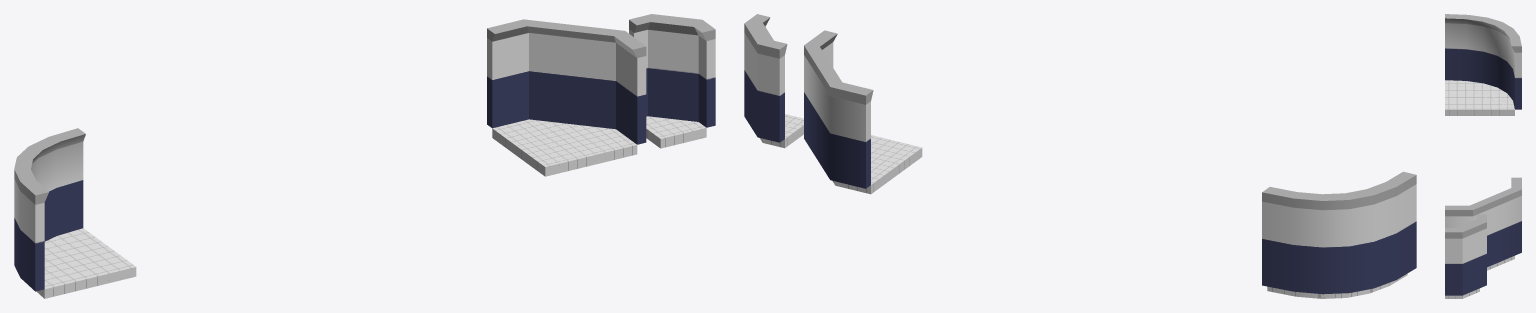
The model's file is ModularCorners.fbx.
3 views of the same model, side by side, from view 1: azimuth 30°, elevation 25°; view 2: azimuth 150°, elevation 25°; view 3: azimuth 270°, elevation 25° (orthographic). The views are drawn at different scales.
Parts seen in each view (by area): view 1: Diagonal_Wall_003, Curve_Wall_002, Diagnoal_Wall_003, Diagonal_Floor_003, Curved Floor001, Diagonal_Floor_004; view 2: Curve_Wall_002, Diagonal_Wall_003, Diagnoal_Wall_003, Diagonal_Floor_003, Curved Floor001, Diagonal_Floor_004; view 3: Curve_Wall_002, Diagonal_Wall_003, Diagnoal_Wall_003, Curved Floor001, Diagonal_Floor_004, Diagonal_Floor_003.
Part boxes in pixels (bbox=[...]): Diagonal_Wall_003: bbox=[487, 19, 646, 144]; Curve_Wall_002: bbox=[14, 128, 85, 291]; Diagnoal_Wall_003: bbox=[629, 14, 715, 127]; Diagonal_Floor_003: bbox=[492, 119, 637, 176]; Curved Floor001: bbox=[36, 228, 136, 298]; Diagonal_Floor_004: bbox=[646, 116, 706, 148]; Curve_Wall_002: bbox=[1262, 171, 1416, 294]; Diagonal_Wall_003: bbox=[804, 30, 873, 188]; Diagnoal_Wall_003: bbox=[744, 14, 787, 142]; Diagonal_Floor_003: bbox=[832, 135, 922, 194]; Curved Floor001: bbox=[1267, 273, 1407, 298]; Diagonal_Floor_004: bbox=[760, 114, 803, 148]; Curve_Wall_002: bbox=[1445, 14, 1521, 109]; Diagonal_Wall_003: bbox=[1445, 177, 1521, 267]; Diagnoal_Wall_003: bbox=[1445, 214, 1486, 295]; Curved Floor001: bbox=[1445, 80, 1514, 115]; Diagonal_Floor_004: bbox=[1445, 288, 1479, 298]; Diagonal_Floor_003: bbox=[1487, 256, 1514, 270].
Bounding box in the file's own units: 583 × 86.61 × 86.71.
2 materials, 2 textured.
